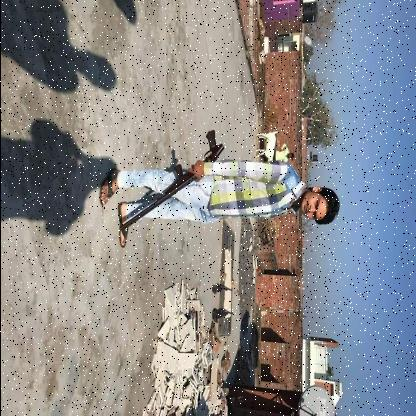rifle: (117, 128, 225, 233)
